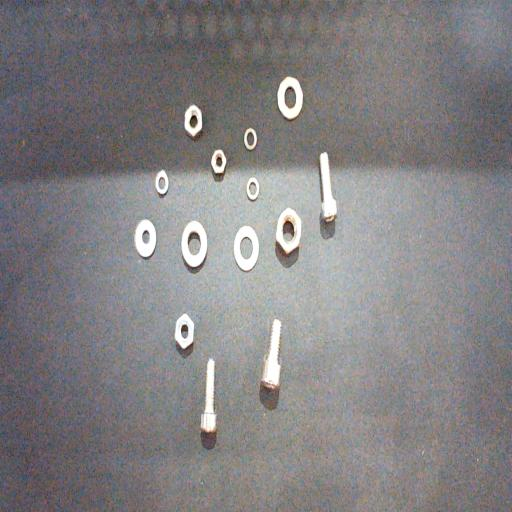nut: (276, 207, 301, 254), (174, 314, 194, 350), (184, 104, 202, 136), (211, 149, 226, 175)
screw: (260, 320, 282, 390), (200, 358, 217, 433), (319, 152, 337, 222)
washer: (181, 220, 207, 268), (277, 76, 303, 119), (234, 226, 258, 270), (135, 218, 156, 258), (155, 170, 169, 195), (246, 177, 260, 200), (244, 128, 257, 151)
